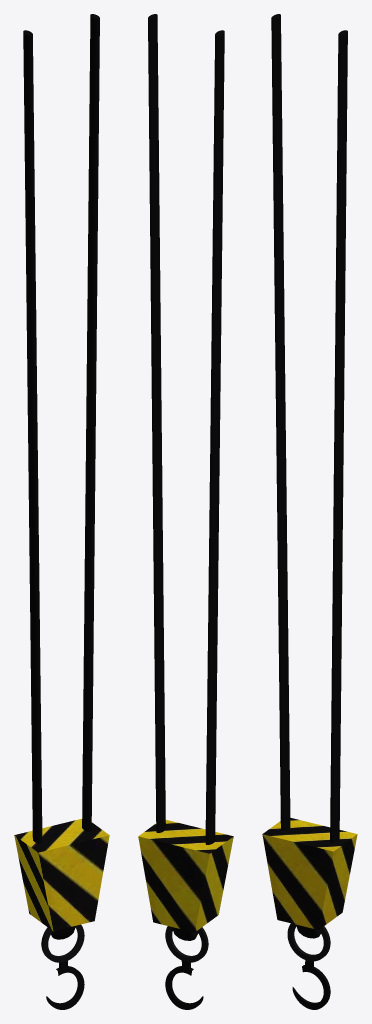
File: objects-crane-255.glb
3 views of the same model, side by side, from view 1: azimuth 30°, elevation 25°; view 2: azimuth 150°, elevation 25°; view 3: azimuth 330°, elevation 25° (orthographic).
Visible parts, largest first — view 1: Cube; view 2: Cube; view 3: Cube.
Boxes of the visible parts, x1,y1,x2,y2 form: Cube: [14, 14, 109, 1009]; Cube: [138, 14, 233, 1009]; Cube: [262, 14, 357, 1009].
Bounding box in the file's own units: 3.54 × 45.34 × 2.
3 materials, 1 textured.
